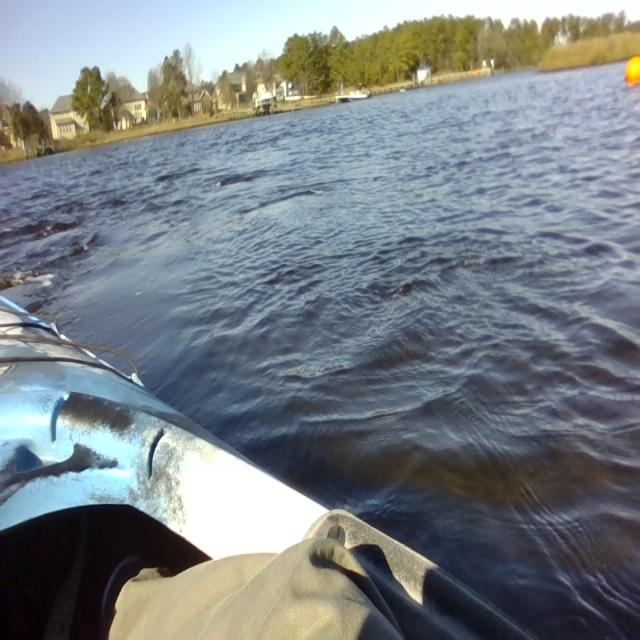Buoy: (622, 53, 640, 94)
